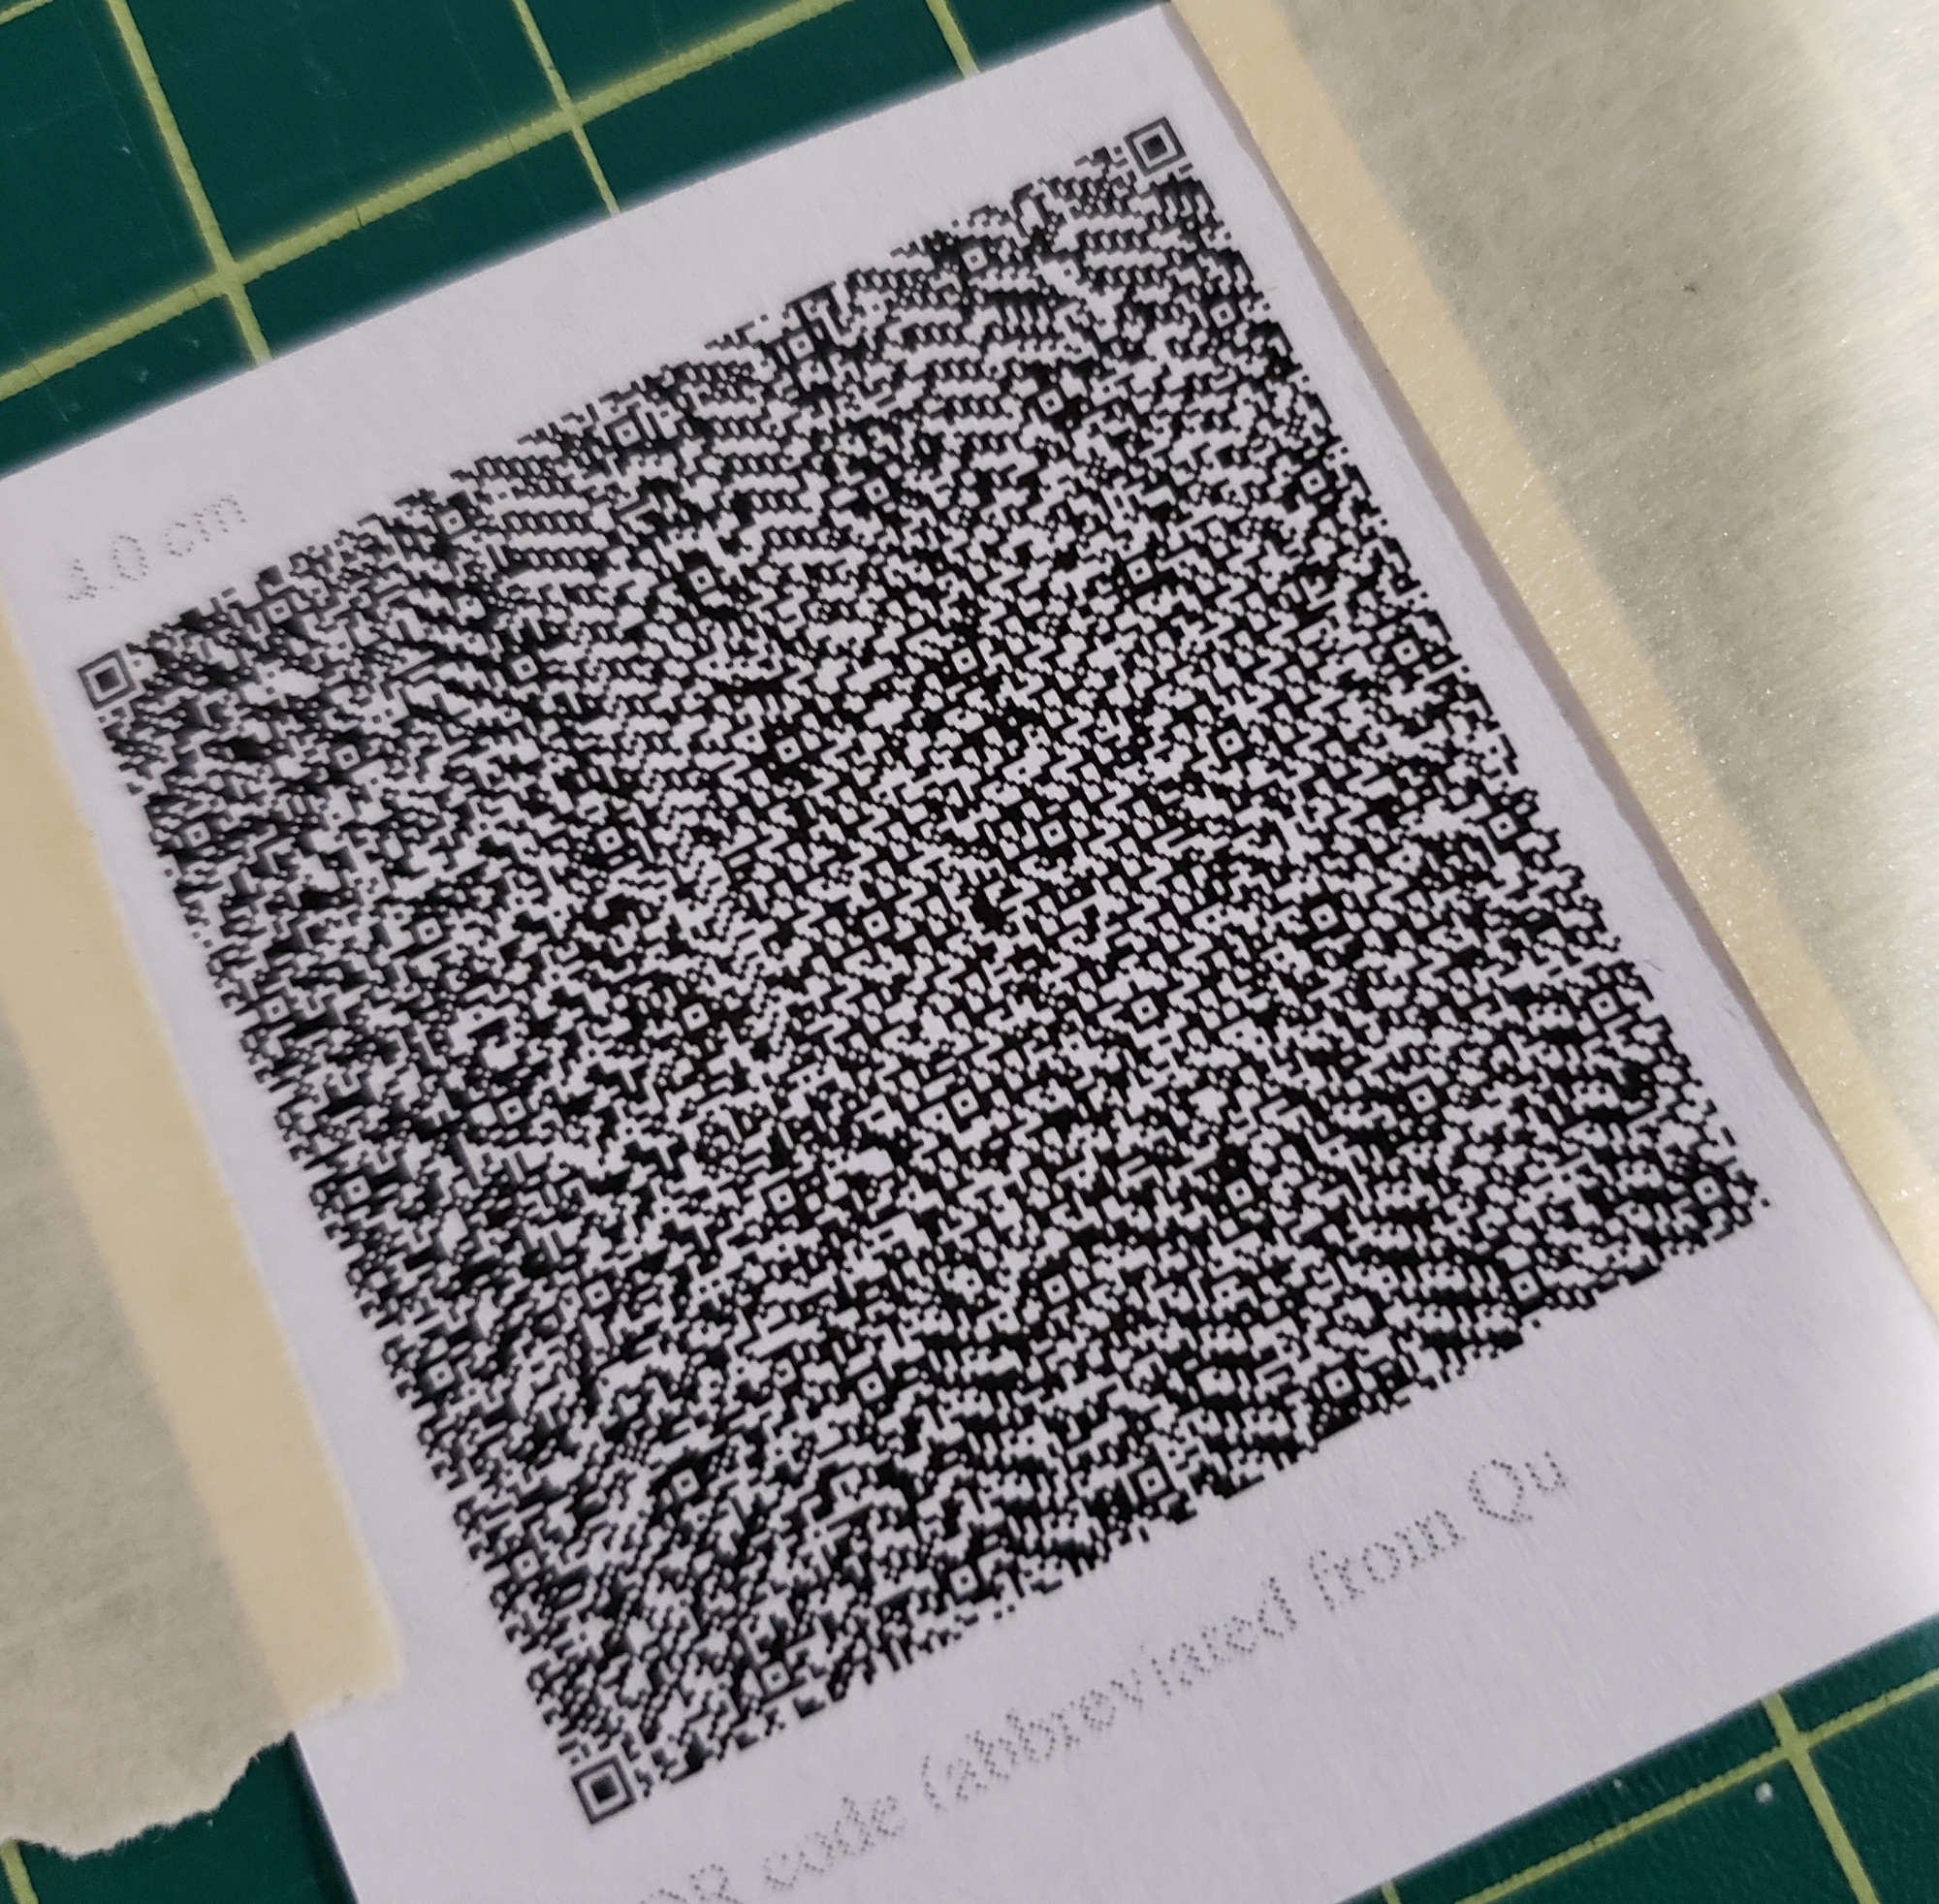QR_CODE: (49, 75, 1833, 1845)
